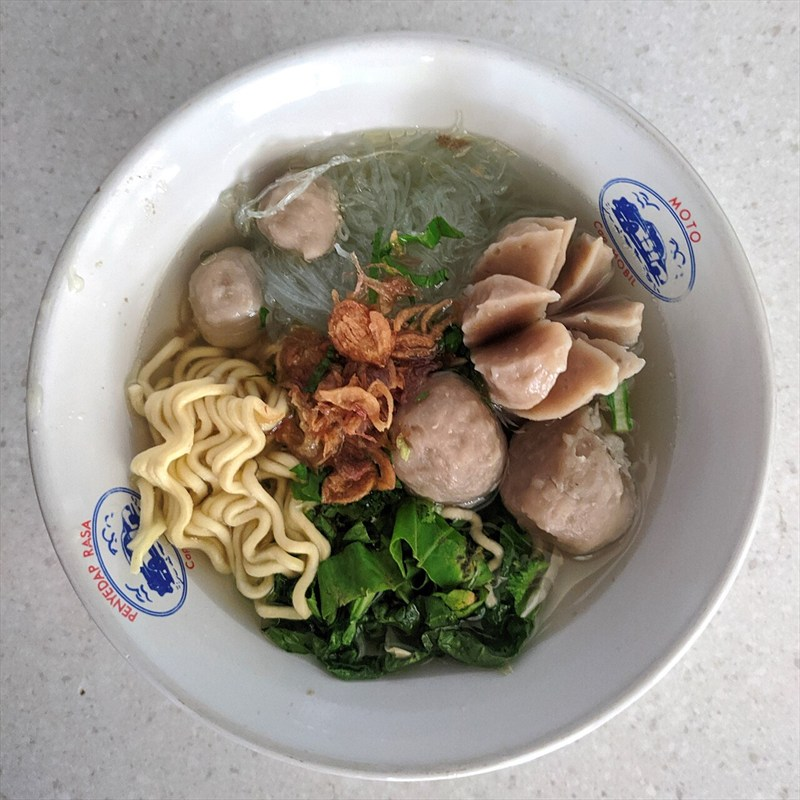Bakso: (132, 205, 643, 668)
